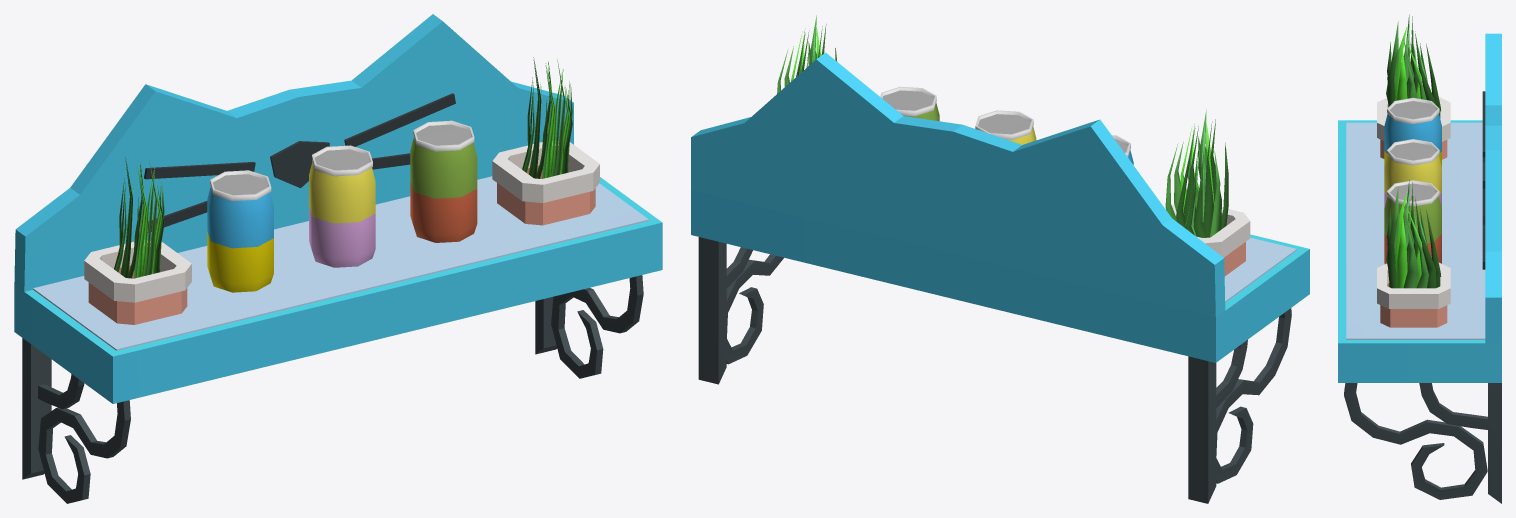
The model's file is Gia nuoc 1.004.gltf.
3 renders of one model, left to right at view 1: azimuth 30°, elevation 25°; view 2: azimuth 150°, elevation 25°; view 3: azimuth 270°, elevation 25°, orthographic. The views are drawn at different scales.
Parts seen in each view (by area): view 1: Gia nuoc 1.004; view 2: Gia nuoc 1.004; view 3: Gia nuoc 1.004.
Boxes of the visible parts, left/top/right/bottom form: Gia nuoc 1.004: left=14, top=14, right=662, bottom=503; Gia nuoc 1.004: left=691, top=15, right=1309, bottom=503; Gia nuoc 1.004: left=1338, top=14, right=1501, bottom=503.
Size of the model in its own units: 6.99 by 4.44 by 2.17.
1 material, 1 textured.
